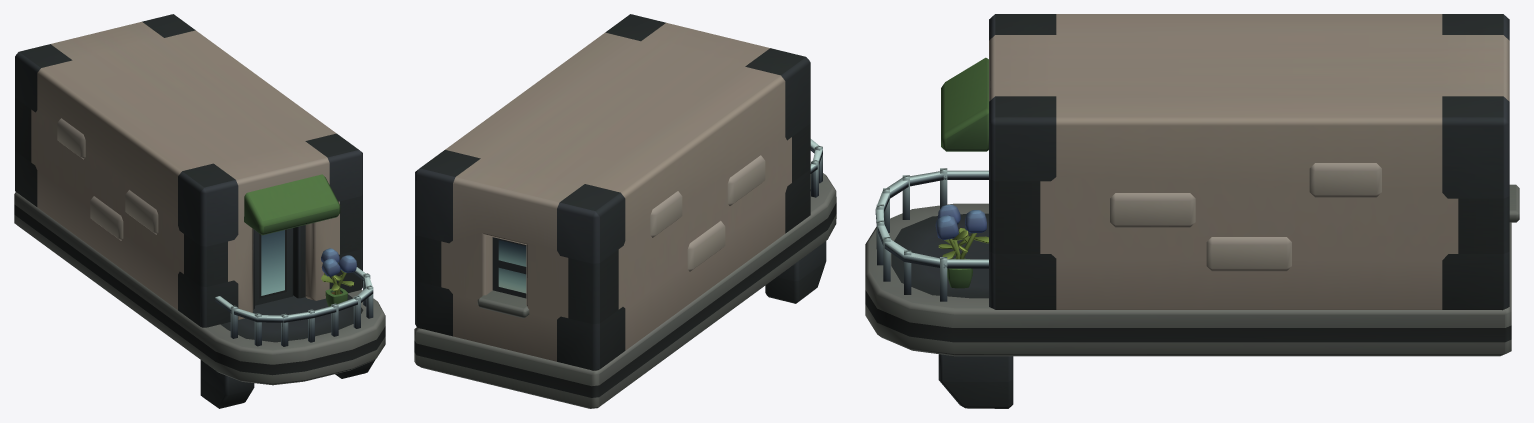
File: appartment_type1_x2_balcony_cream.fbx
The picture shows the model from 3 angles, left to right: view 1: azimuth 30°, elevation 25°; view 2: azimuth 150°, elevation 25°; view 3: azimuth 270°, elevation 25°; orthographic projection. The views are drawn at different scales.
Parts seen in each view (by area): view 1: appartment_type1_x2_balcony_cream, door_appartment_type1_x2_balcony_grey; view 2: appartment_type1_x2_balcony_cream; view 3: appartment_type1_x2_balcony_cream.
Boxes of the visible parts, x1,y1,x2,y2 form: appartment_type1_x2_balcony_cream: (14, 14, 385, 408); door_appartment_type1_x2_balcony_grey: (255, 228, 293, 305); appartment_type1_x2_balcony_cream: (414, 14, 836, 408); appartment_type1_x2_balcony_cream: (865, 14, 1519, 408).
Bounding box in the file's own units: 419 × 505 × 1017.
